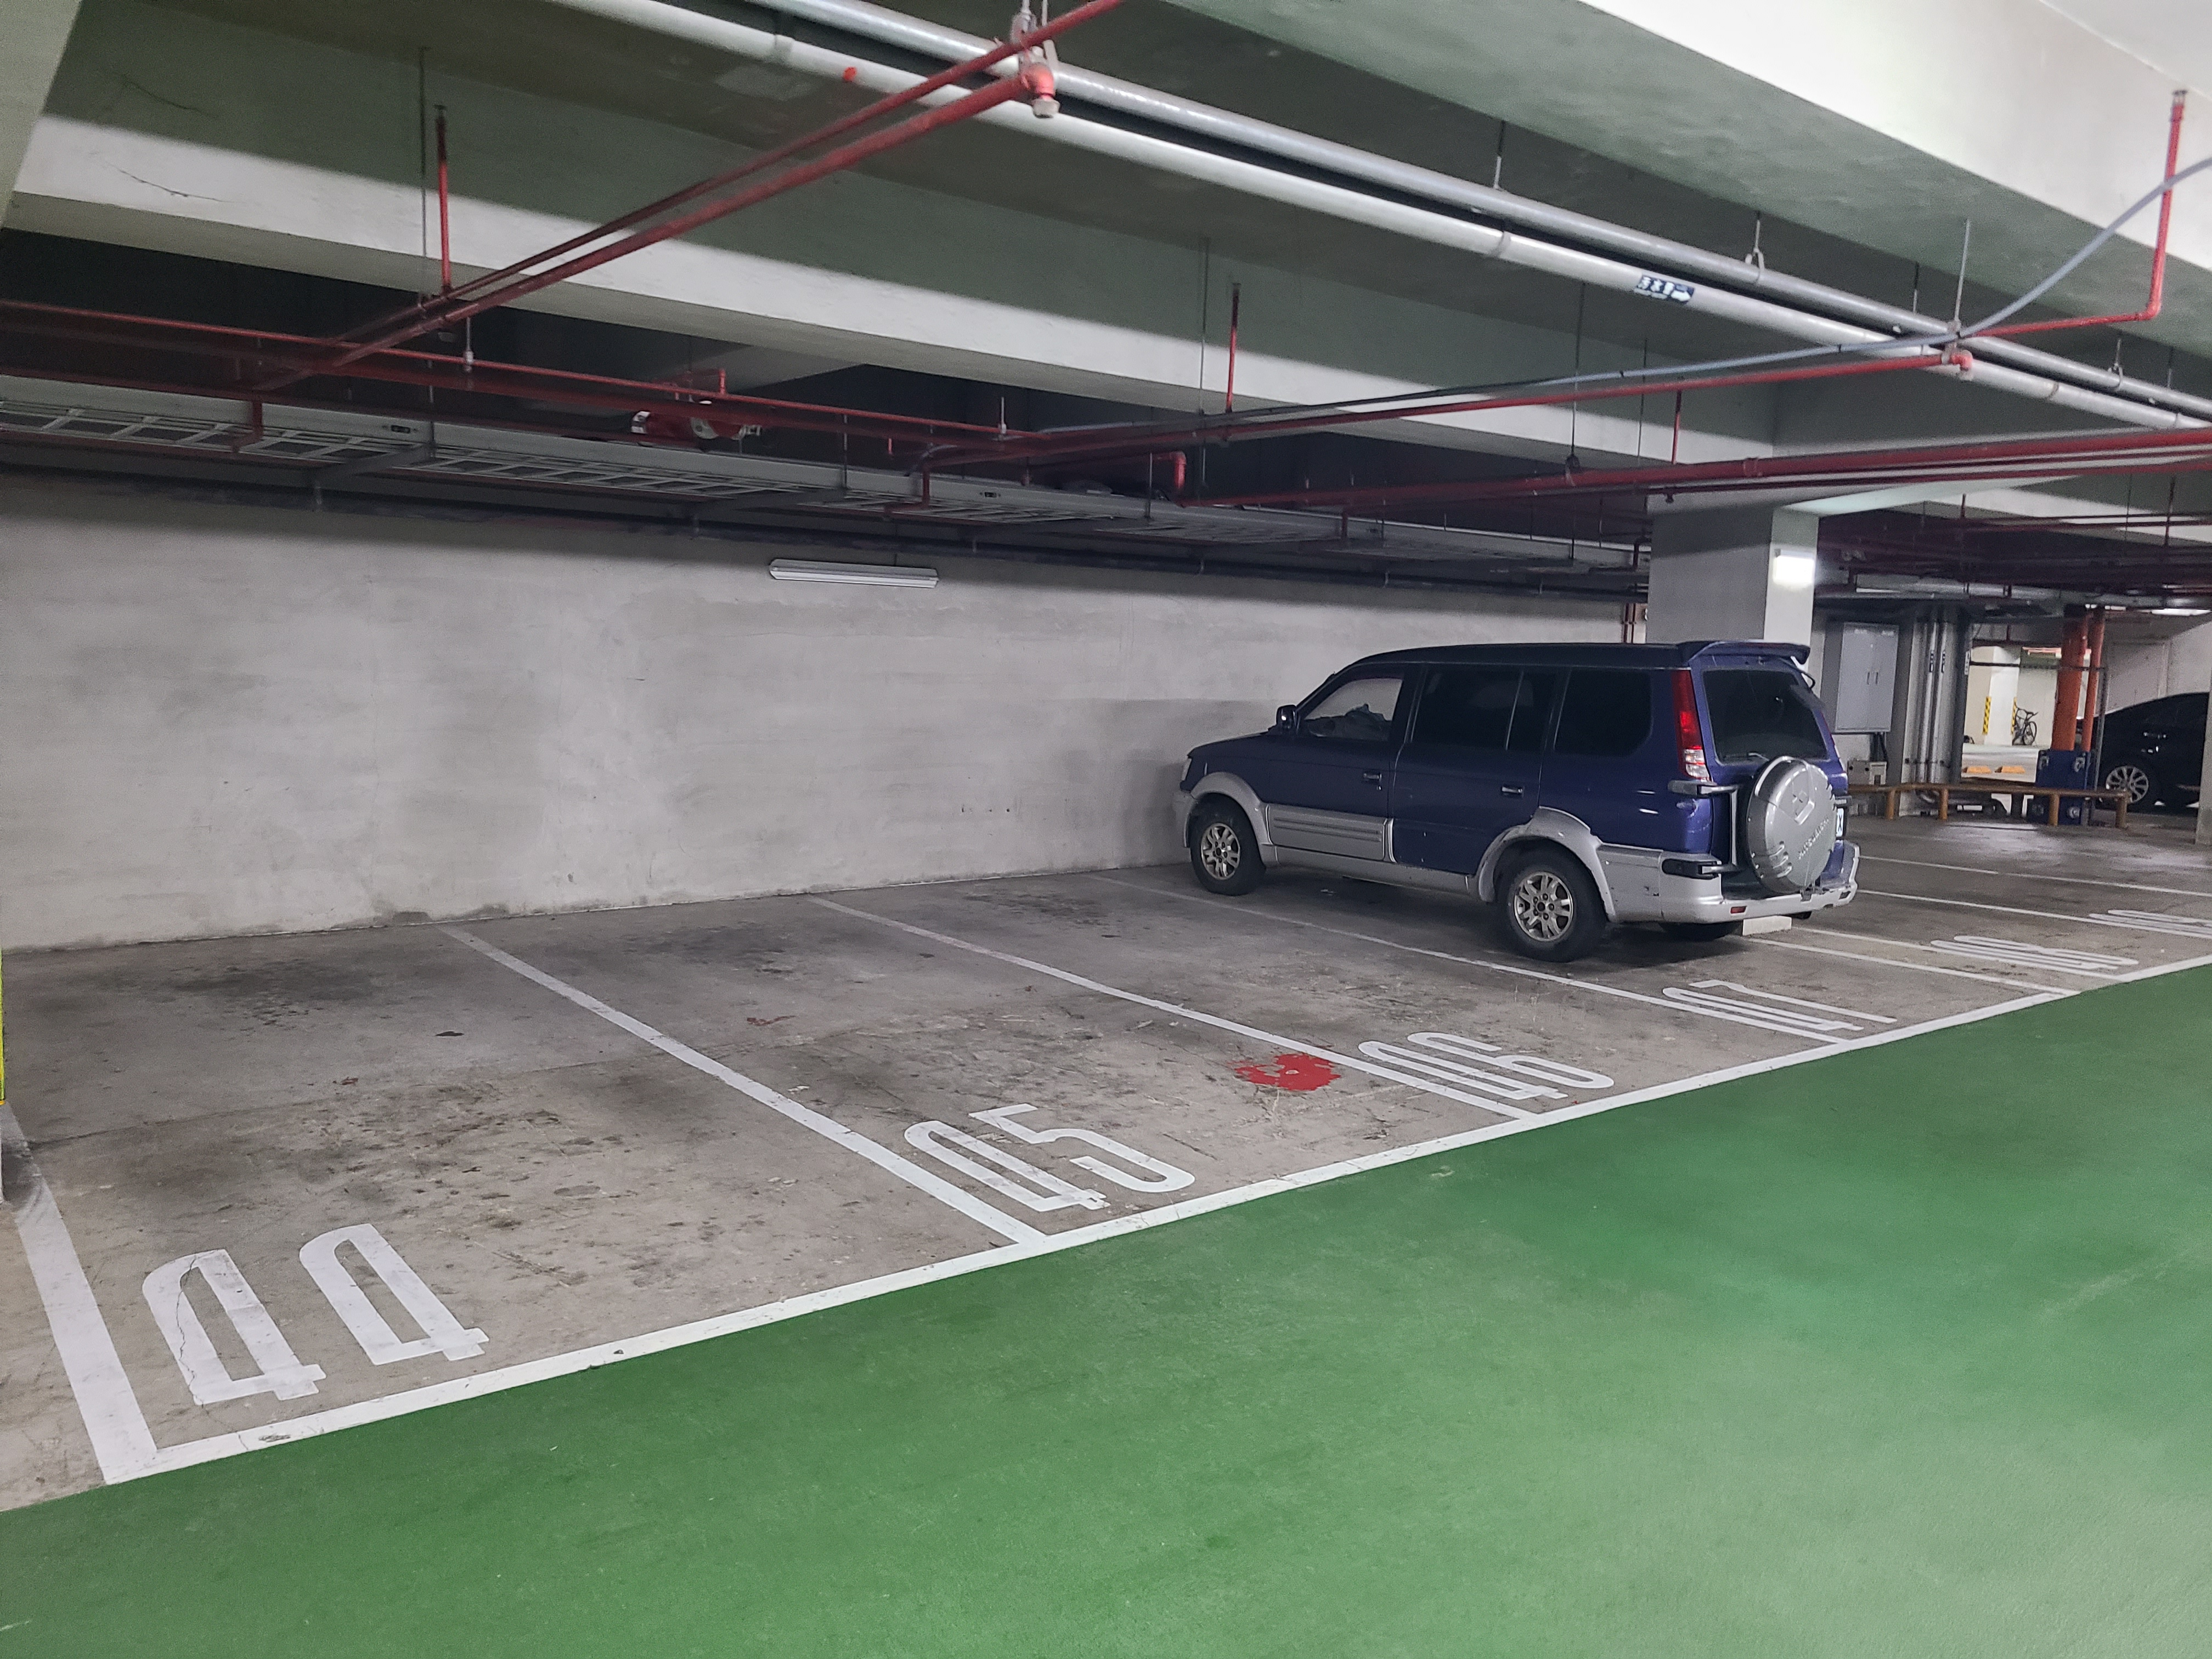car: (1157, 627, 1864, 967)
